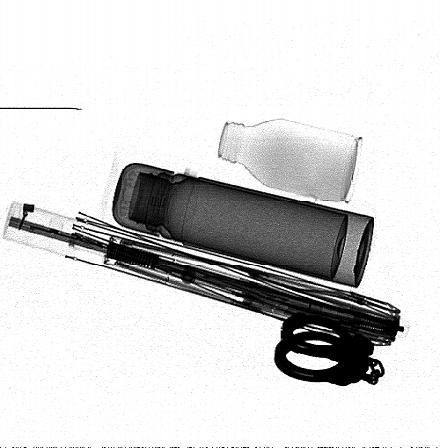HandCuffs: (274, 311, 385, 386)
